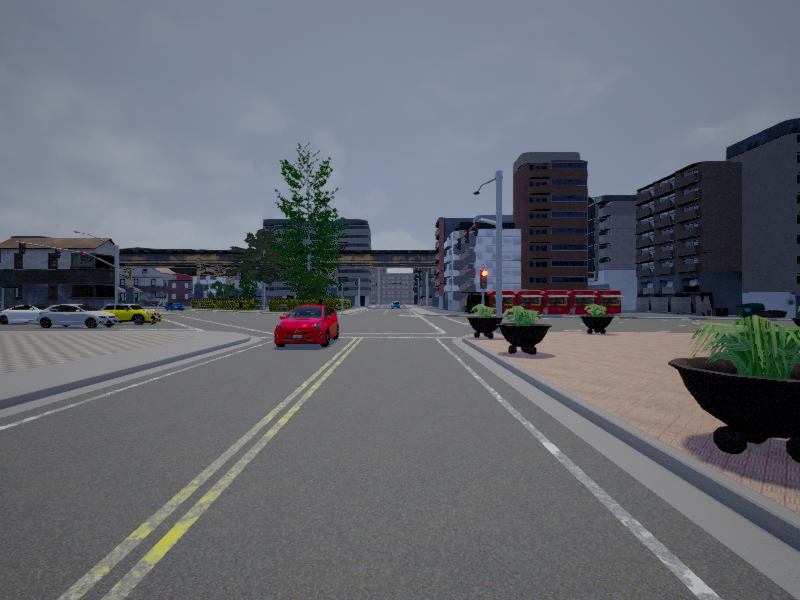Benign: (274, 305, 340, 347), (39, 303, 115, 330), (102, 305, 161, 325), (1, 304, 51, 325)
